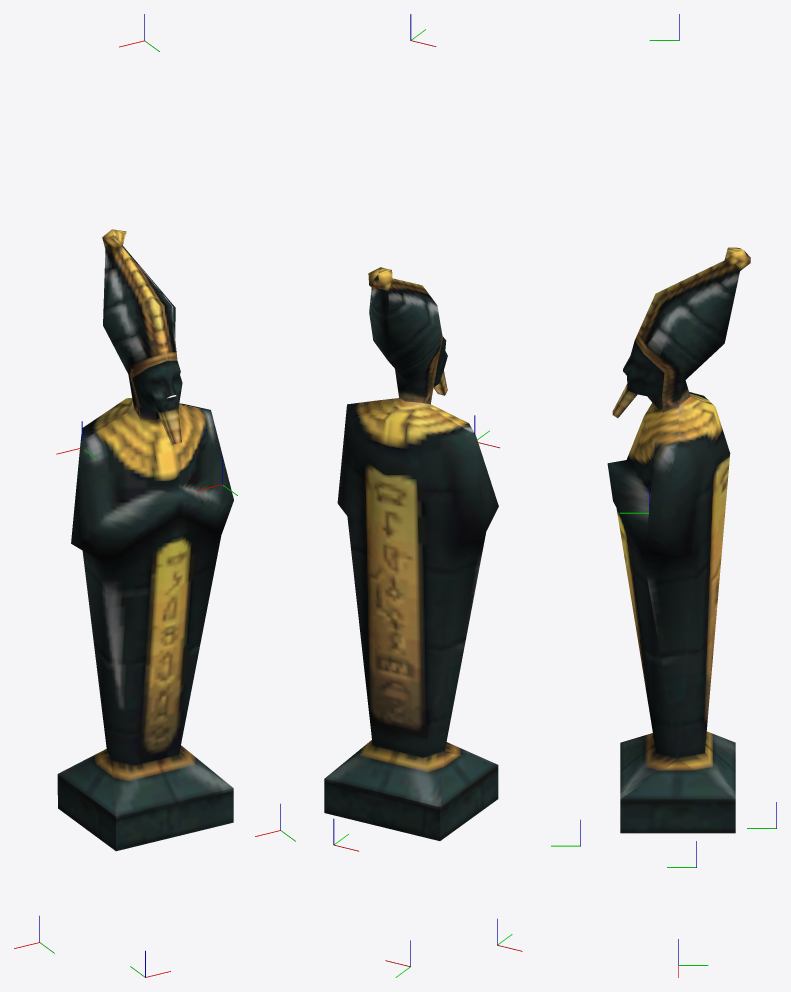
Rendered from egyptian-monument-to-soldiers.glb.
The picture shows the model from 3 angles, left to right: view 1: azimuth 30°, elevation 25°; view 2: azimuth 150°, elevation 25°; view 3: azimuth 270°, elevation 25°; orthographic projection.
Visible parts, largest first — view 1: building e monument2Model; view 2: building e monument2Model; view 3: building e monument2Model.
Part boxes in pixels (left/top/right/bottom): building e monument2Model: left=57, top=229, right=233, bottom=851; building e monument2Model: left=324, top=267, right=498, bottom=840; building e monument2Model: left=607, top=247, right=750, bottom=833.
Size of the model in its own units: 2.02 by 8.94 by 1.92.
Materials: 2 (1 with a texture image).
